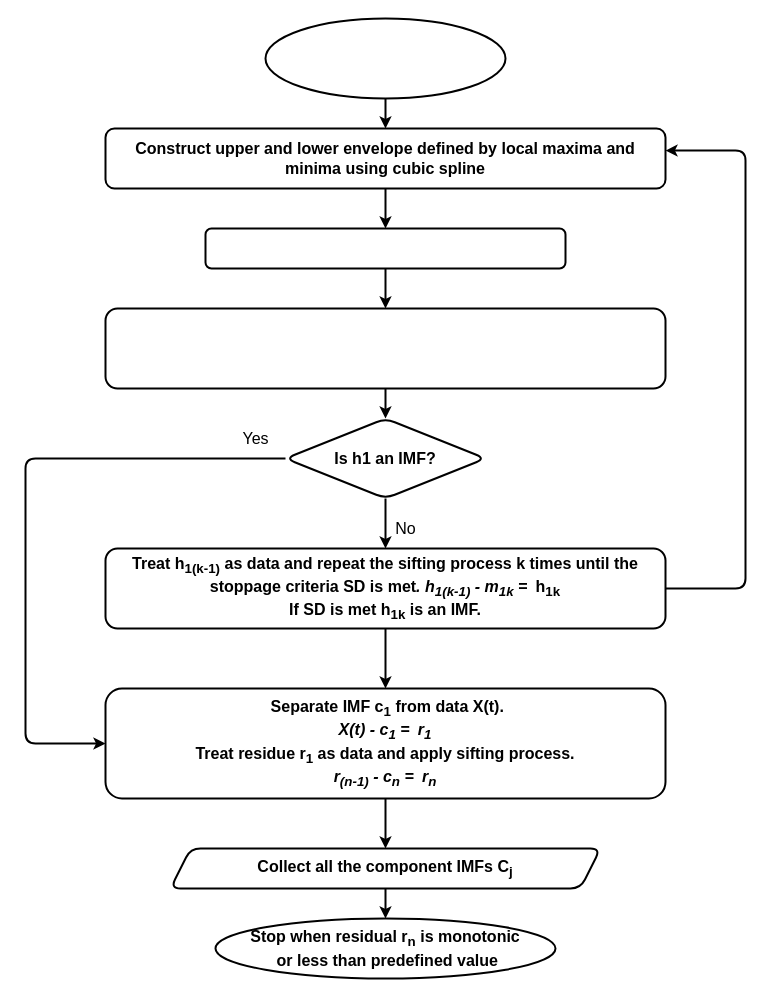
Some shapes in this 771 by 996 pixel diagram are drawn without their labels. Here are the shapes that lost their labels. From the top down, the box of each, then its label:
(264, 17, 506, 99): Input data as time series x(t)
(204, 227, 566, 269): Calculate the mean of envelopes m 1
(104, 307, 666, 389): Calculate the first Proto-IMF by subtracting mean from data X(t) - m 1 = h 1
